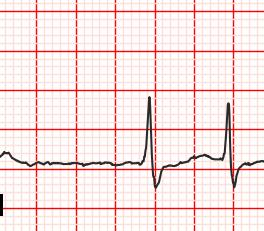ST Depression: (135, 154, 172, 192), (218, 147, 245, 193)
